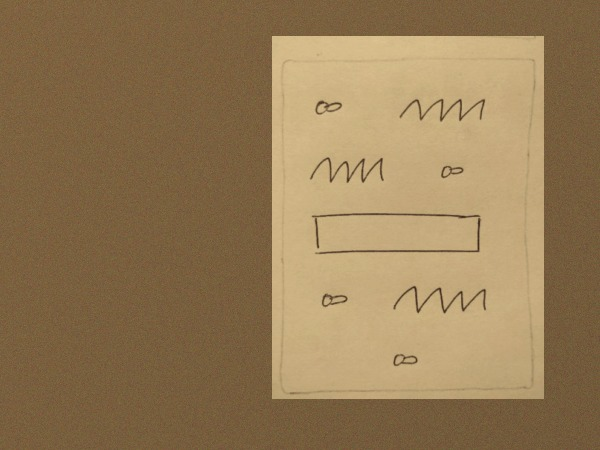switch: (313, 284, 359, 312), (310, 94, 349, 120), (432, 159, 470, 184), (389, 348, 423, 370)
text: (389, 281, 491, 316), (394, 90, 488, 127), (306, 152, 390, 187)
text_input: (303, 209, 492, 263)
